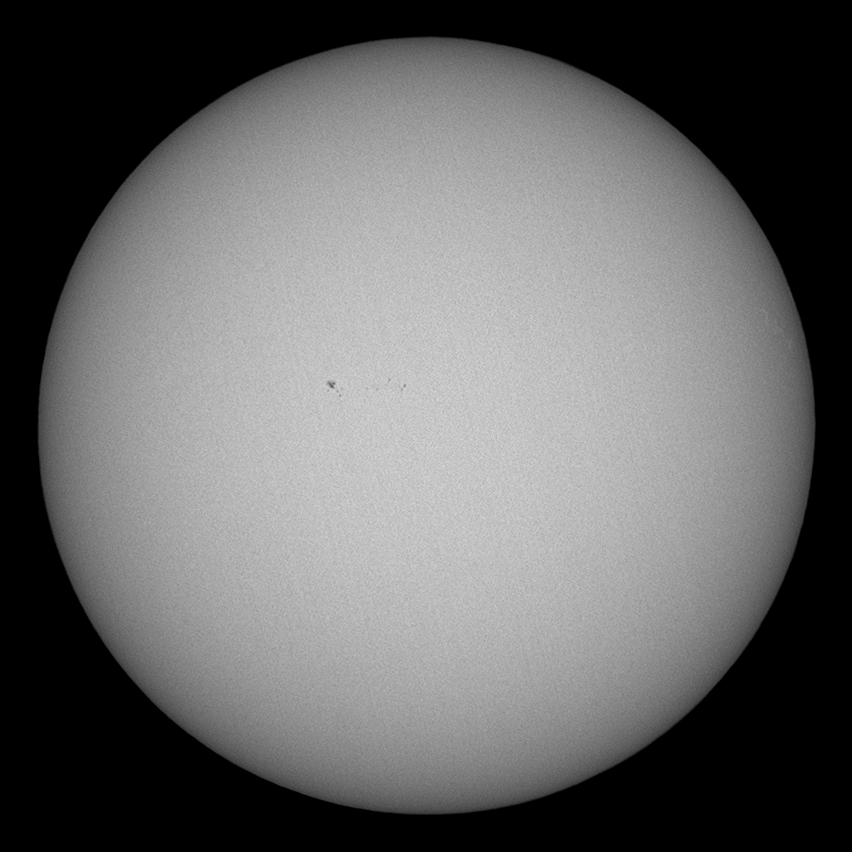sunspot: (320, 376, 346, 398)
